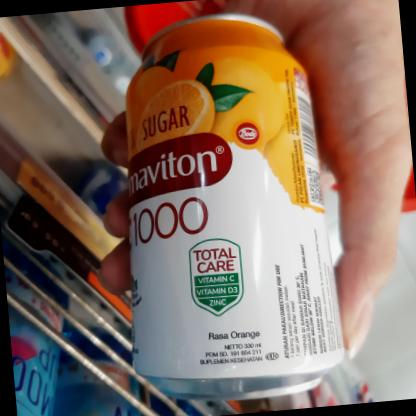alumunium_can: (94, 0, 366, 416)
